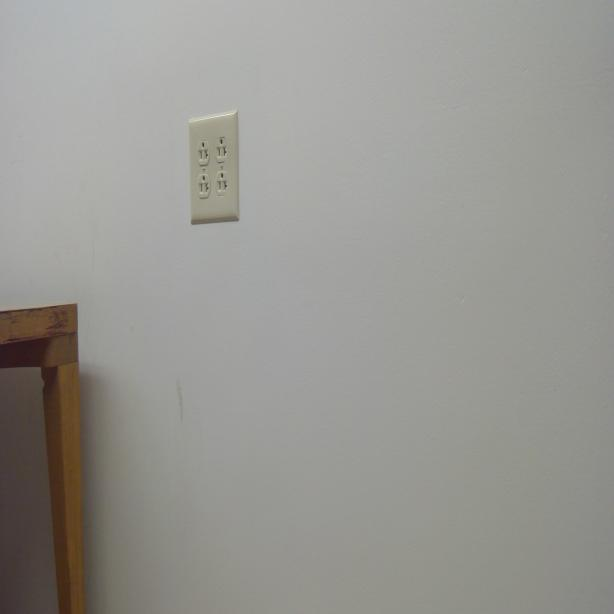typeb: (195, 174, 210, 197), (196, 140, 210, 163), (216, 172, 229, 196), (216, 138, 229, 160)
